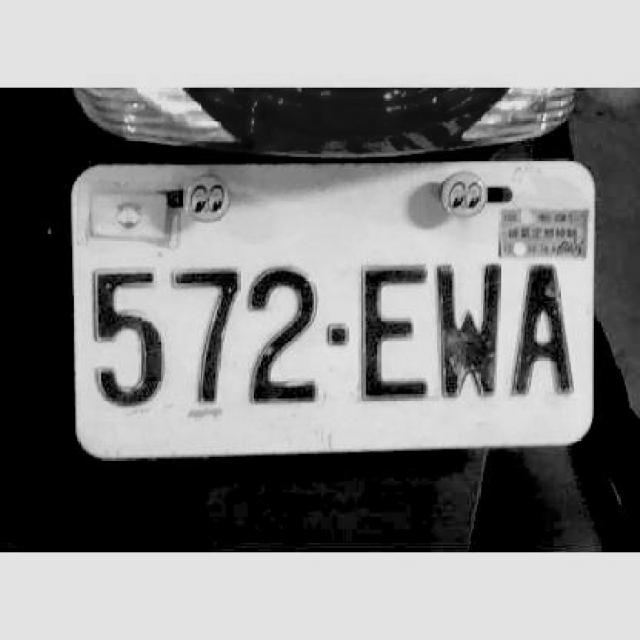-: (326, 323, 348, 349)
2: (246, 265, 323, 406)
5: (89, 263, 168, 409)
7: (172, 262, 243, 403)
A: (509, 262, 574, 403)
E: (356, 264, 430, 404)
W: (429, 258, 505, 402)
